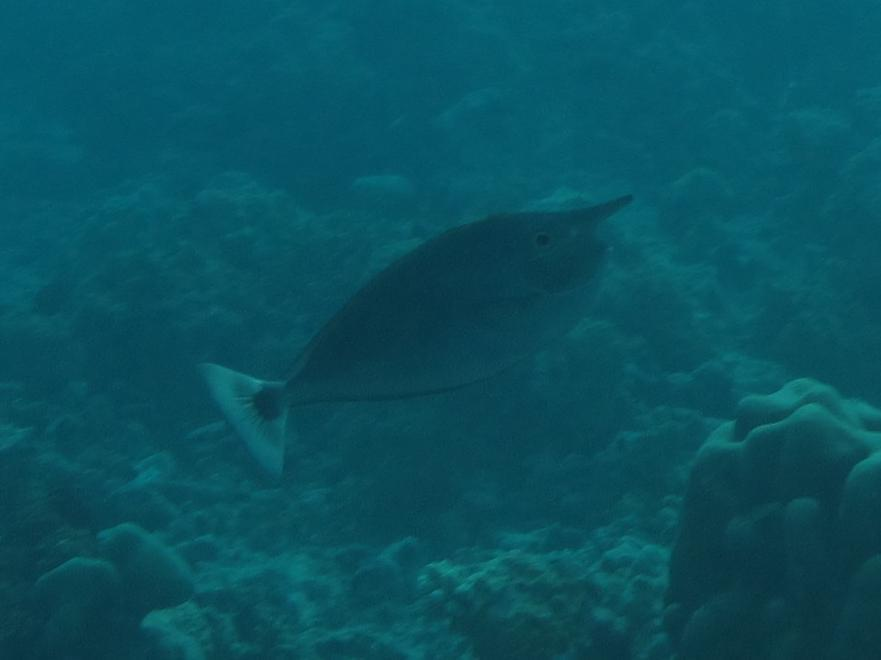Naso brevicordatus: (156, 171, 659, 493)
